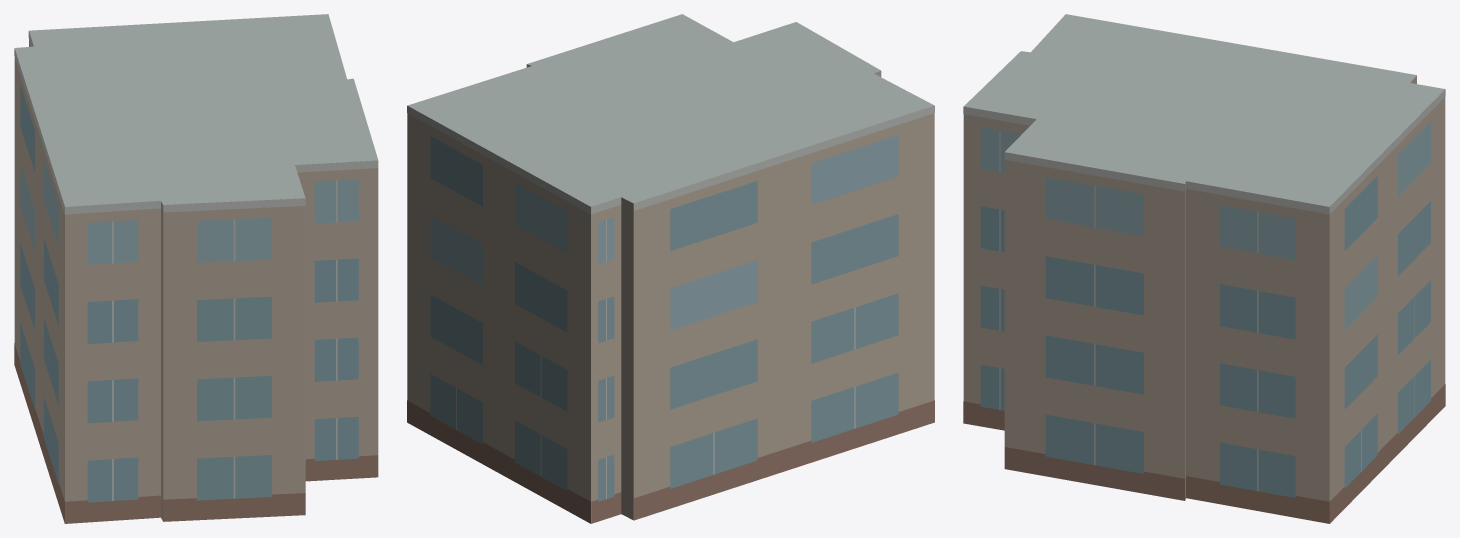
The model's file is survey-upis-32929837.glb.
The picture shows the model from 3 angles, left to right: view 1: azimuth 30°, elevation 25°; view 2: azimuth 150°, elevation 25°; view 3: azimuth 270°, elevation 25°; orthographic projection.
Visible parts, largest first — view 1: survey-upis-32929837.tmp; view 2: survey-upis-32929837.tmp; view 3: survey-upis-32929837.tmp.
Part boxes in pixels (box(x1,y1,x2,y2)): survey-upis-32929837.tmp: box(14, 14, 378, 523); survey-upis-32929837.tmp: box(407, 14, 934, 523); survey-upis-32929837.tmp: box(963, 14, 1445, 523).
Size of the model in its own units: 13.33 by 10.2 by 14.07.
